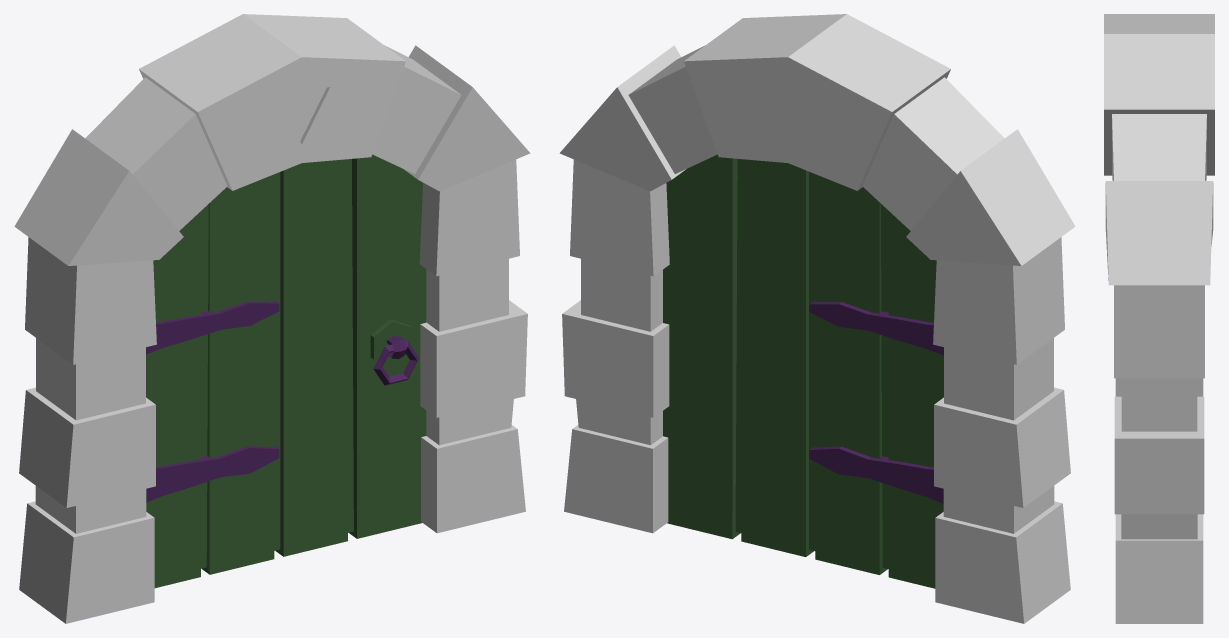
File: Door.fbx
The picture shows the model from 3 angles, left to right: view 1: azimuth 30°, elevation 25°; view 2: azimuth 150°, elevation 25°; view 3: azimuth 270°, elevation 25°; orthographic projection. The views are drawn at different scales.
Visible parts, largest first — view 1: Door Frame.001, Door Frame; view 2: Door Frame.001, Door Frame; view 3: Door Frame.001.
Boxes of the visible parts, box(x1,y1,x2,y2) form: Door Frame.001: box(14, 14, 530, 623); Door Frame: box(146, 154, 426, 588); Door Frame.001: box(559, 14, 1075, 623); Door Frame: box(663, 154, 943, 588); Door Frame.001: box(1104, 14, 1214, 623).
Size of the model in its own units: 331 by 354 by 73.09.
